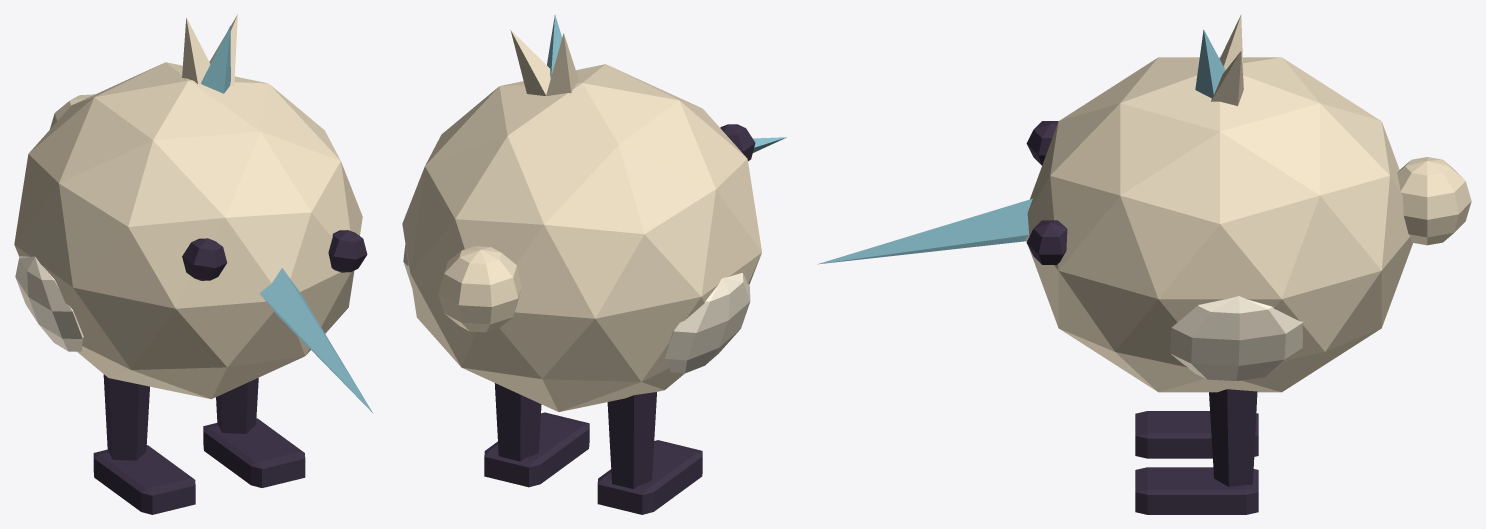
The model's file is bird-wildwest-2.glb.
3 views of the same model, side by side, from view 1: azimuth 30°, elevation 25°; view 2: azimuth 150°, elevation 25°; view 3: azimuth 270°, elevation 25° (orthographic). The views are drawn at different scales.
Parts seen in each view (by area): view 1: bird-wildwest-2; view 2: bird-wildwest-2; view 3: bird-wildwest-2.
Boxes of the visible parts, x1=… form: bird-wildwest-2: x1=14, y1=14, x2=373, y2=514; bird-wildwest-2: x1=402, y1=14, x2=786, y2=514; bird-wildwest-2: x1=817, y1=14, x2=1471, y2=514.
Size of the model in its own units: 0.5034 by 0.7 by 0.8931.
